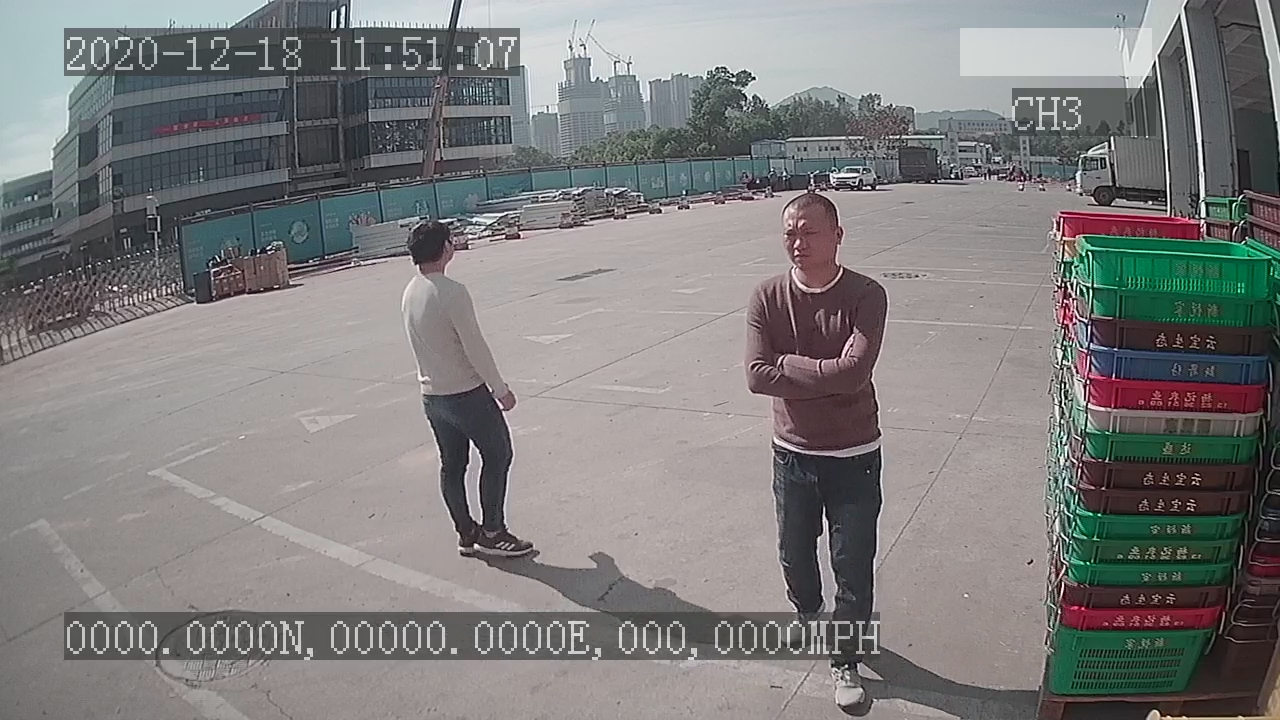person: (395, 215, 545, 565)
